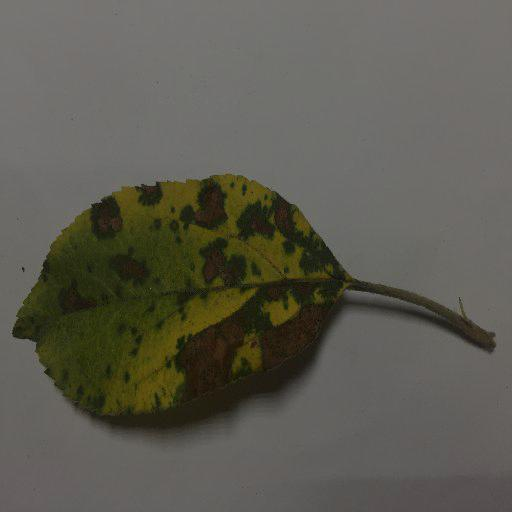Brown_Spot: (176, 313, 314, 382), (297, 243, 340, 280), (205, 248, 246, 280), (86, 202, 123, 236), (110, 252, 151, 280), (193, 190, 224, 227), (51, 293, 88, 316), (241, 212, 270, 237), (280, 205, 297, 235), (139, 187, 158, 204)
